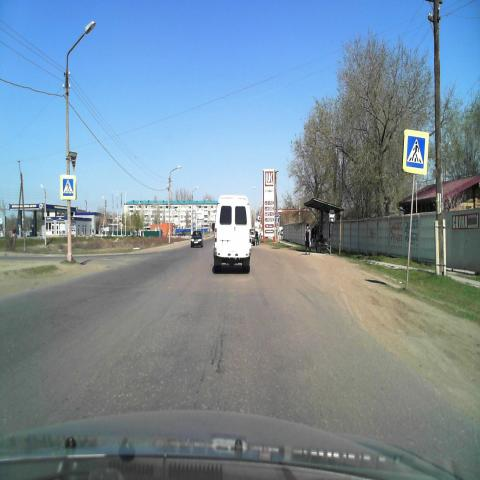5_19_1: (403, 128, 428, 177), (60, 174, 76, 201)
